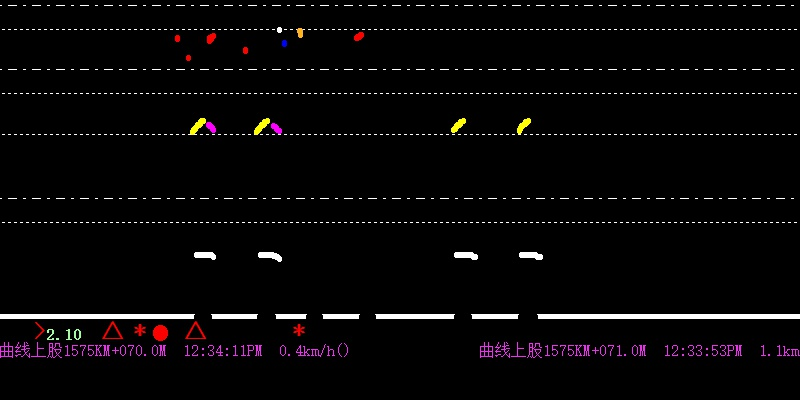circle: (149, 323, 171, 344)
face_1: (295, 24, 304, 39)
face_down: (351, 27, 370, 50), (205, 26, 217, 45)
star: (132, 321, 149, 340), (290, 322, 308, 338)
